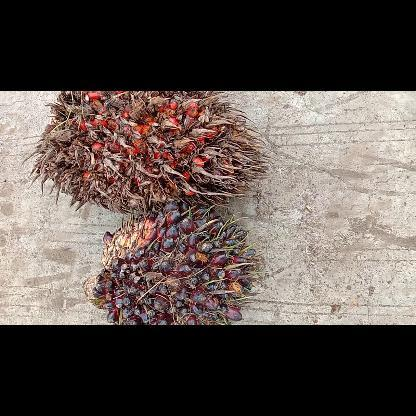TBS mentah: (84, 202, 264, 324)
Terlalu masak: (23, 91, 273, 213)
